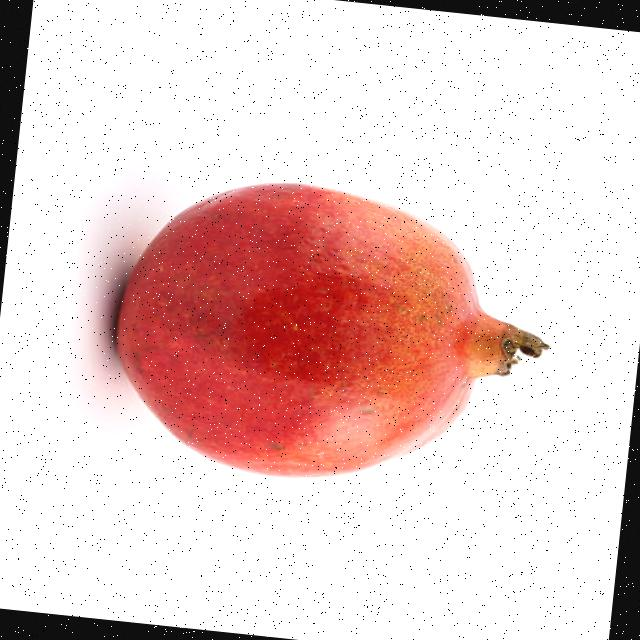Ripe: (92, 162, 570, 508)
